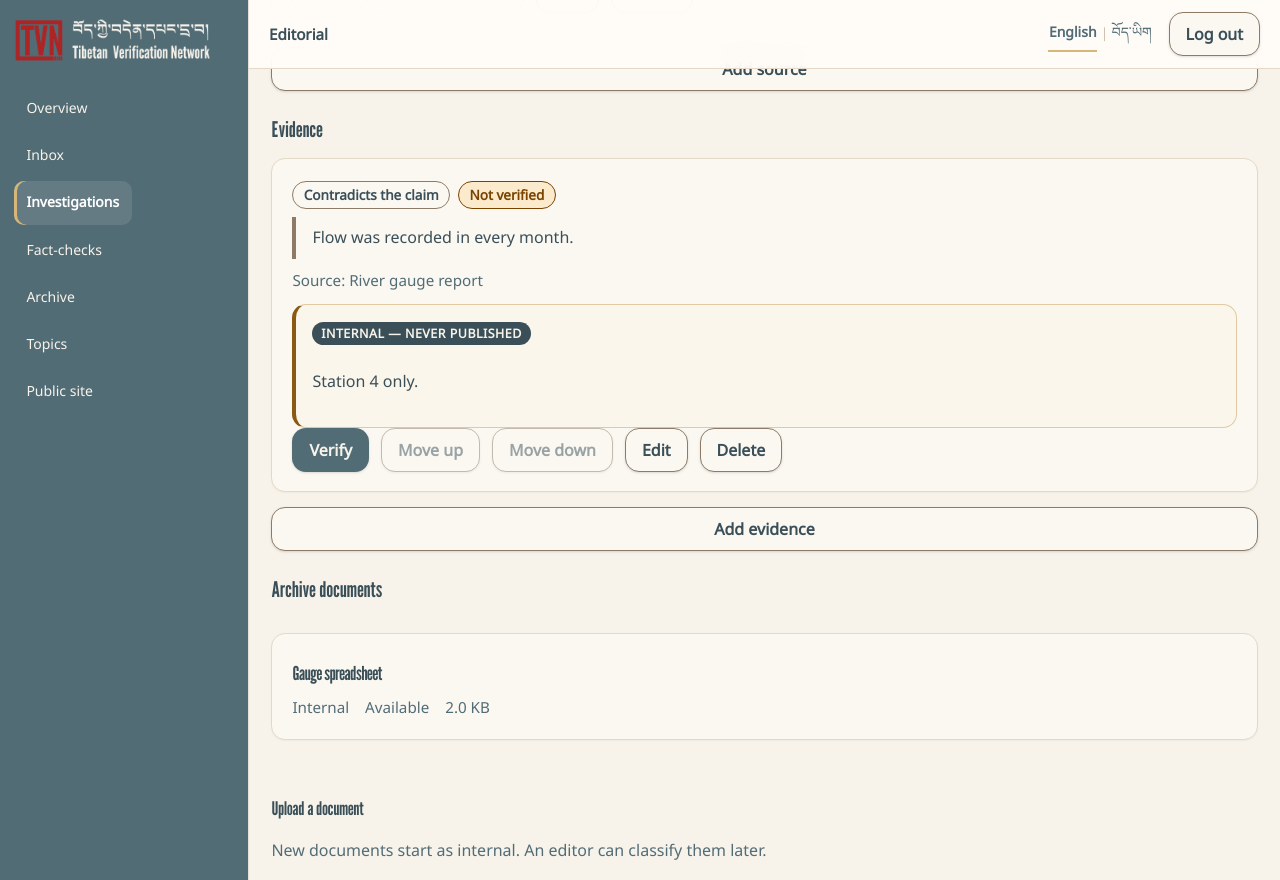
Test case: investigation workspace › verifies evidence and records who did it
(page scrolled)
Click the button with aria-label "Verify evidence 1" at [331, 450], box left=292, top=428, right=369, bottom=472
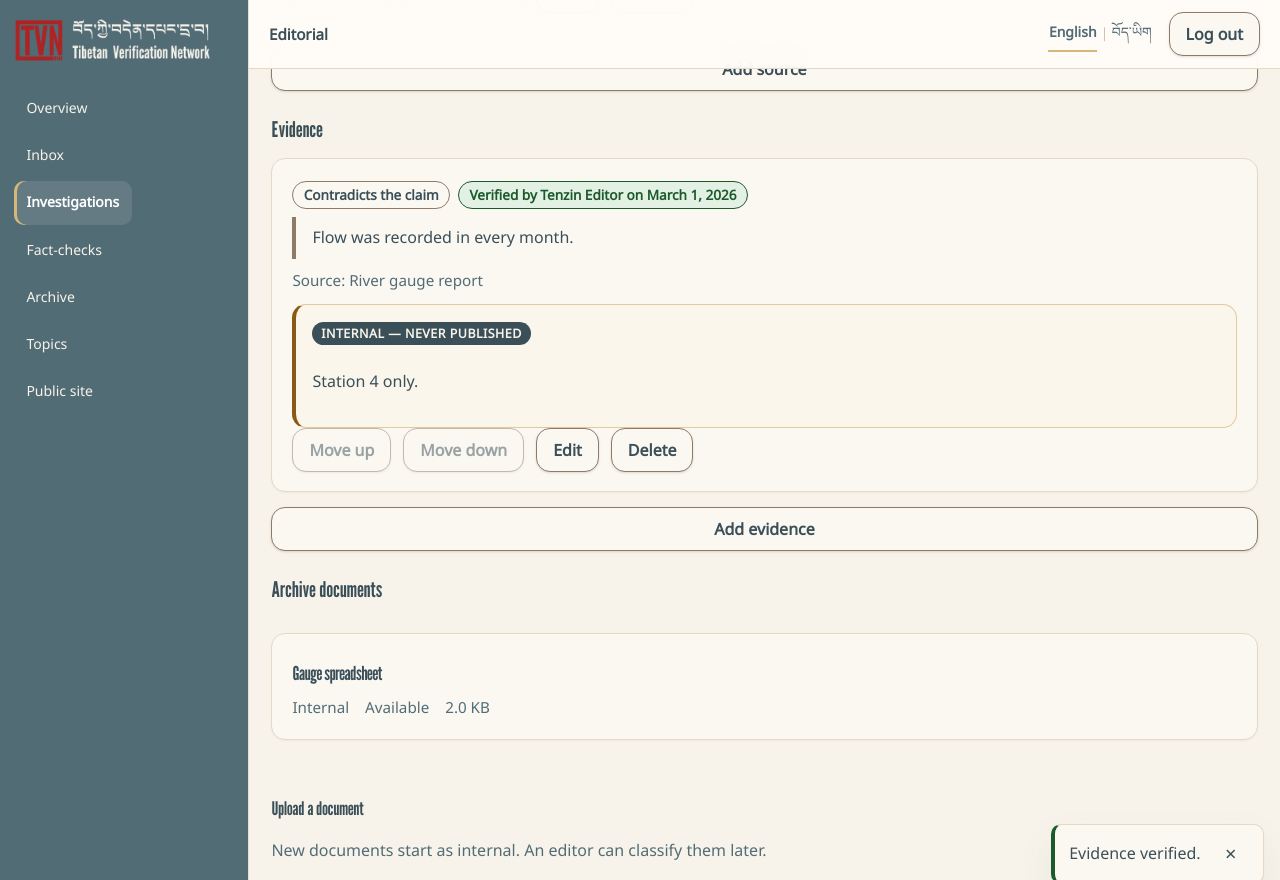
Now the text "Verified by Tenzin Editor on March 1, 2026" is shown, box left=458, top=181, right=748, bottom=209
